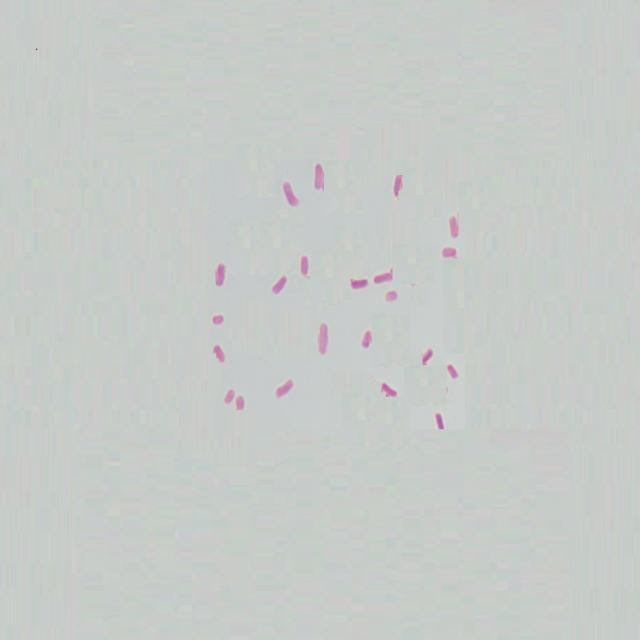E-coli: (369, 263, 398, 288), (389, 168, 407, 204), (316, 321, 332, 358), (274, 376, 296, 401), (378, 376, 399, 402), (282, 178, 300, 208), (432, 407, 448, 439), (313, 158, 327, 193), (445, 357, 463, 384), (213, 256, 228, 288), (210, 341, 228, 367), (298, 248, 312, 281), (350, 273, 369, 297), (269, 275, 288, 297), (359, 326, 374, 351), (447, 215, 461, 240), (235, 391, 249, 415), (419, 345, 434, 367), (222, 384, 236, 406), (385, 290, 403, 307), (442, 243, 458, 262), (210, 311, 226, 328)
